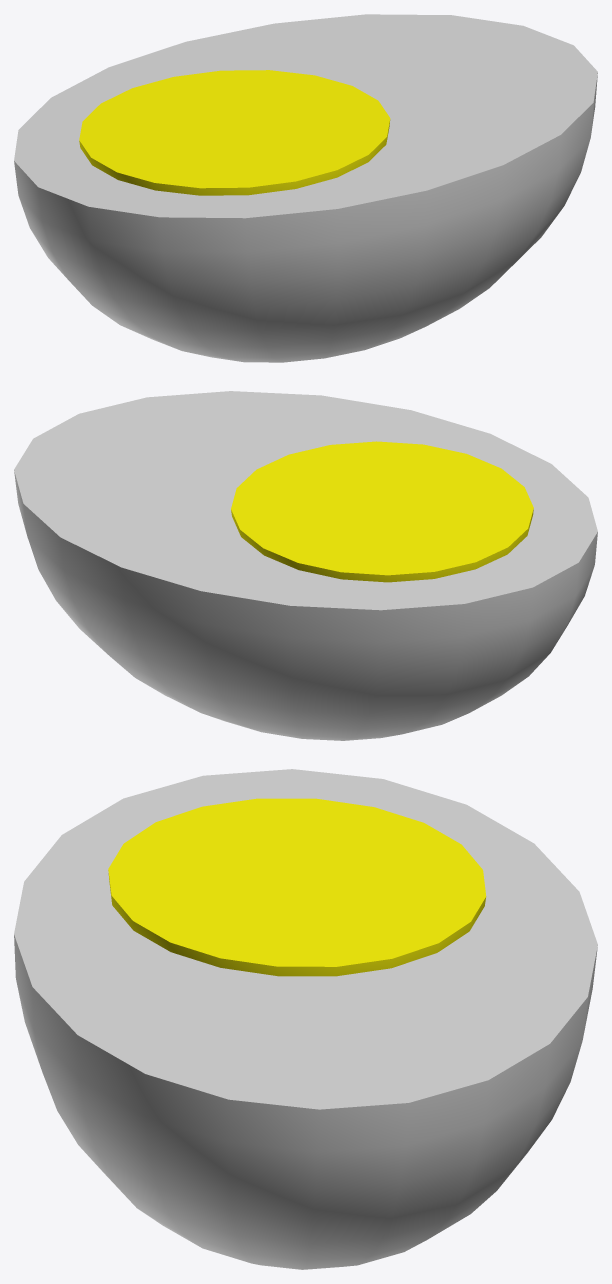
File: TelurRebus.fbx
The picture shows the model from 3 angles, top to bottom: view 1: azimuth 30°, elevation 25°; view 2: azimuth 150°, elevation 25°; view 3: azimuth 270°, elevation 25°; orthographic projection. The views are drawn at different scales.
Parts seen in each view (by area): view 1: TelurRebus; view 2: TelurRebus; view 3: TelurRebus.
Boxes of the visible parts, x1=… form: TelurRebus: x1=14, y1=14, x2=597, y2=362; TelurRebus: x1=14, y1=391, x2=597, y2=740; TelurRebus: x1=14, y1=769, x2=597, y2=1269.
Bounding box in the file's own units: 9.75 × 3.99 × 7.05.
